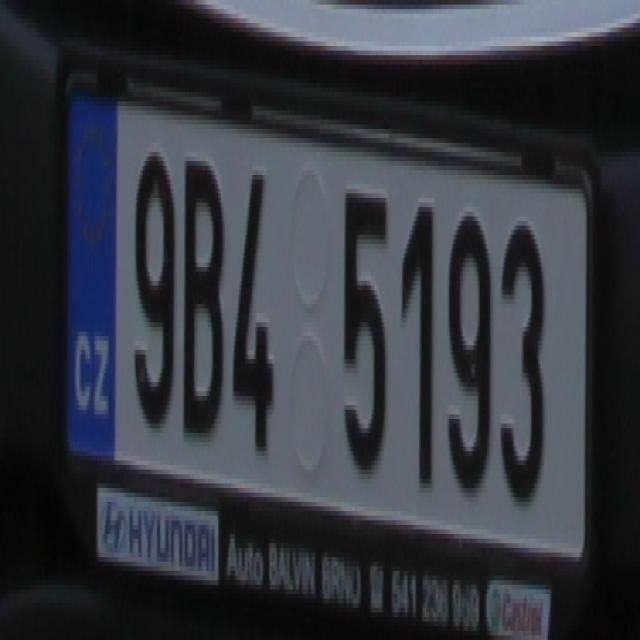1: (394, 189, 433, 488)
3: (496, 207, 545, 507)
4: (231, 166, 279, 460)
5: (334, 170, 387, 470)
9: (133, 138, 177, 428), (446, 202, 490, 479)
B: (180, 157, 226, 442)
